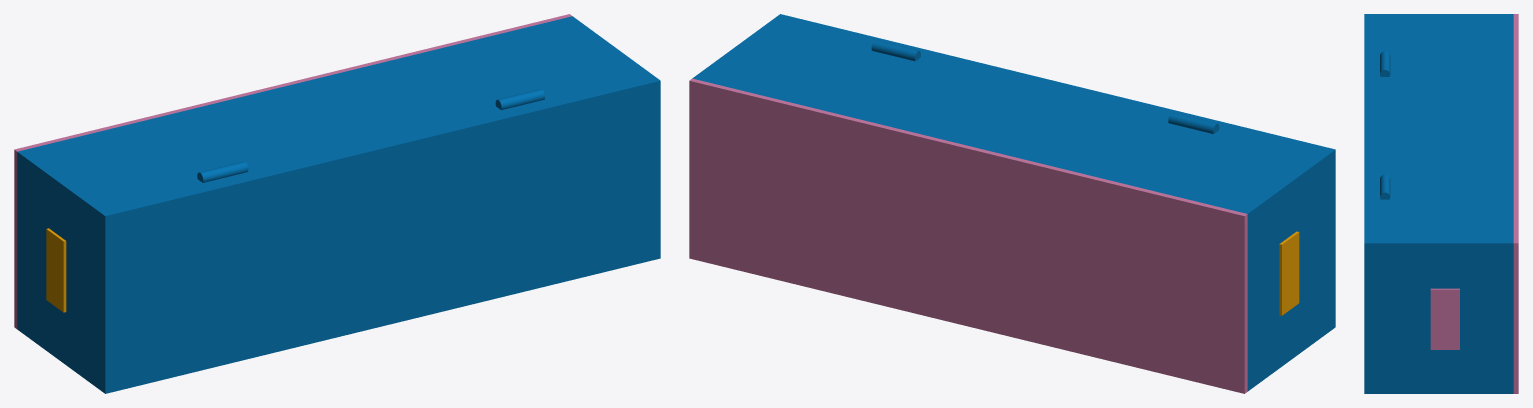
The model's file is c204_A_ferme.obj.
3 views of the same model, side by side, from view 1: azimuth 30°, elevation 25°; view 2: azimuth 150°, elevation 25°; view 3: azimuth 270°, elevation 25° (orthographic). The views are drawn at different scales.
Visible parts, largest first — view 1: A-012_Couvercle___dessus, A-003_Corps___paroi_arrière, A-004_Corps___paroi_d_extrémité_gauche, A-014_Couvercle___rebord_arrière, A-001_Corps___fond, A-015_Couvercle___rebord_gauche, A-008_Poignée_encastrée_d_extrémité_gauche, A-002_Corps___paroi_avant, A-010_Charnière_n_1, A-011_Charnière_n_2; view 2: A-001_Corps___fond, A-003_Corps___paroi_arrière, A-004_Corps___paroi_d_extrémité_gauche, A-014_Couvercle___rebord_arrière, A-012_Couvercle___dessus, A-015_Couvercle___rebord_gauche, A-008_Poignée_encastrée_d_extrémité_gauche, A-002_Corps___paroi_avant, A-010_Charnière_n_1, A-011_Charnière_n_2; view 3: A-003_Corps___paroi_arrière, A-005_Corps___paroi_d_extrémité_droite, A-014_Couvercle___rebord_arrière, A-001_Corps___fond, A-016_Couvercle___rebord_droit, A-009_Poignée_encastrée_d_extrémité_droite, A-012_Couvercle___dessus, A-002_Corps___paroi_avant, A-010_Charnière_n_1, A-011_Charnière_n_2, A-013_Couvercle___rebord_avant.
Part boxes in pixels (box(x1,y1,x2,y2)): A-012_Couvercle___dessus: box(103, 79, 660, 393); A-003_Corps___paroi_arrière: box(17, 16, 648, 216); A-004_Corps___paroi_d_extrémité_gauche: box(17, 162, 92, 374); A-014_Couvercle___rebord_arrière: box(93, 72, 657, 224); A-001_Corps___fond: box(14, 14, 572, 328); A-015_Couvercle___rebord_gauche: box(93, 217, 102, 381); A-008_Poignée_encastrée_d_extrémité_gauche: box(46, 228, 66, 312); A-002_Corps___paroi_avant: box(17, 319, 92, 384); A-010_Charnière_n_1: box(197, 161, 248, 182); A-011_Charnière_n_2: box(495, 89, 544, 109); A-001_Corps___fond: box(689, 78, 1247, 393); A-003_Corps___paroi_arrière: box(692, 23, 1323, 223); A-004_Corps___paroi_d_extrémité_gauche: box(1247, 169, 1323, 380); A-014_Couvercle___rebord_arrière: box(768, 15, 1333, 167); A-012_Couvercle___dessus: box(778, 14, 1335, 328); A-015_Couvercle___rebord_gauche: box(1323, 161, 1333, 325); A-008_Poignée_encastrée_d_extrémité_gauche: box(1279, 231, 1299, 315); A-002_Corps___paroi_avant: box(1247, 326, 1323, 391); A-010_Charnière_n_1: box(1168, 112, 1219, 134); A-011_Charnière_n_2: box(871, 40, 920, 61); A-003_Corps___paroi_arrière: box(1385, 14, 1513, 251); A-005_Corps___paroi_d_extrémité_droite: box(1385, 252, 1513, 385); A-014_Couvercle___rebord_arrière: box(1368, 14, 1384, 251); A-001_Corps___fond: box(1513, 14, 1518, 393); A-016_Couvercle___rebord_droit: box(1368, 252, 1384, 385); A-009_Poignée_encastrée_d_extrémité_droite: box(1430, 288, 1459, 349); A-012_Couvercle___dessus: box(1364, 14, 1367, 393); A-002_Corps___paroi_avant: box(1385, 385, 1513, 393); A-010_Charnière_n_1: box(1380, 51, 1390, 76); A-011_Charnière_n_2: box(1380, 174, 1390, 199); A-013_Couvercle___rebord_avant: box(1368, 385, 1384, 393).
Size of the model in its own units: 0.858 by 0.2799 by 0.2416.
